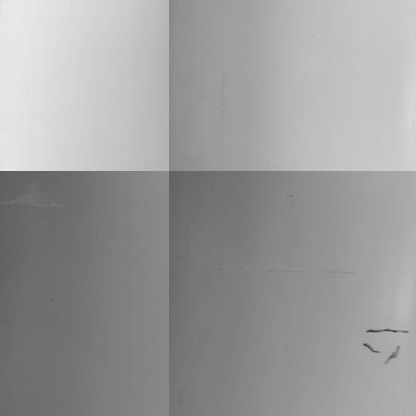fengxi: (365, 327, 404, 337), (363, 341, 376, 355)
